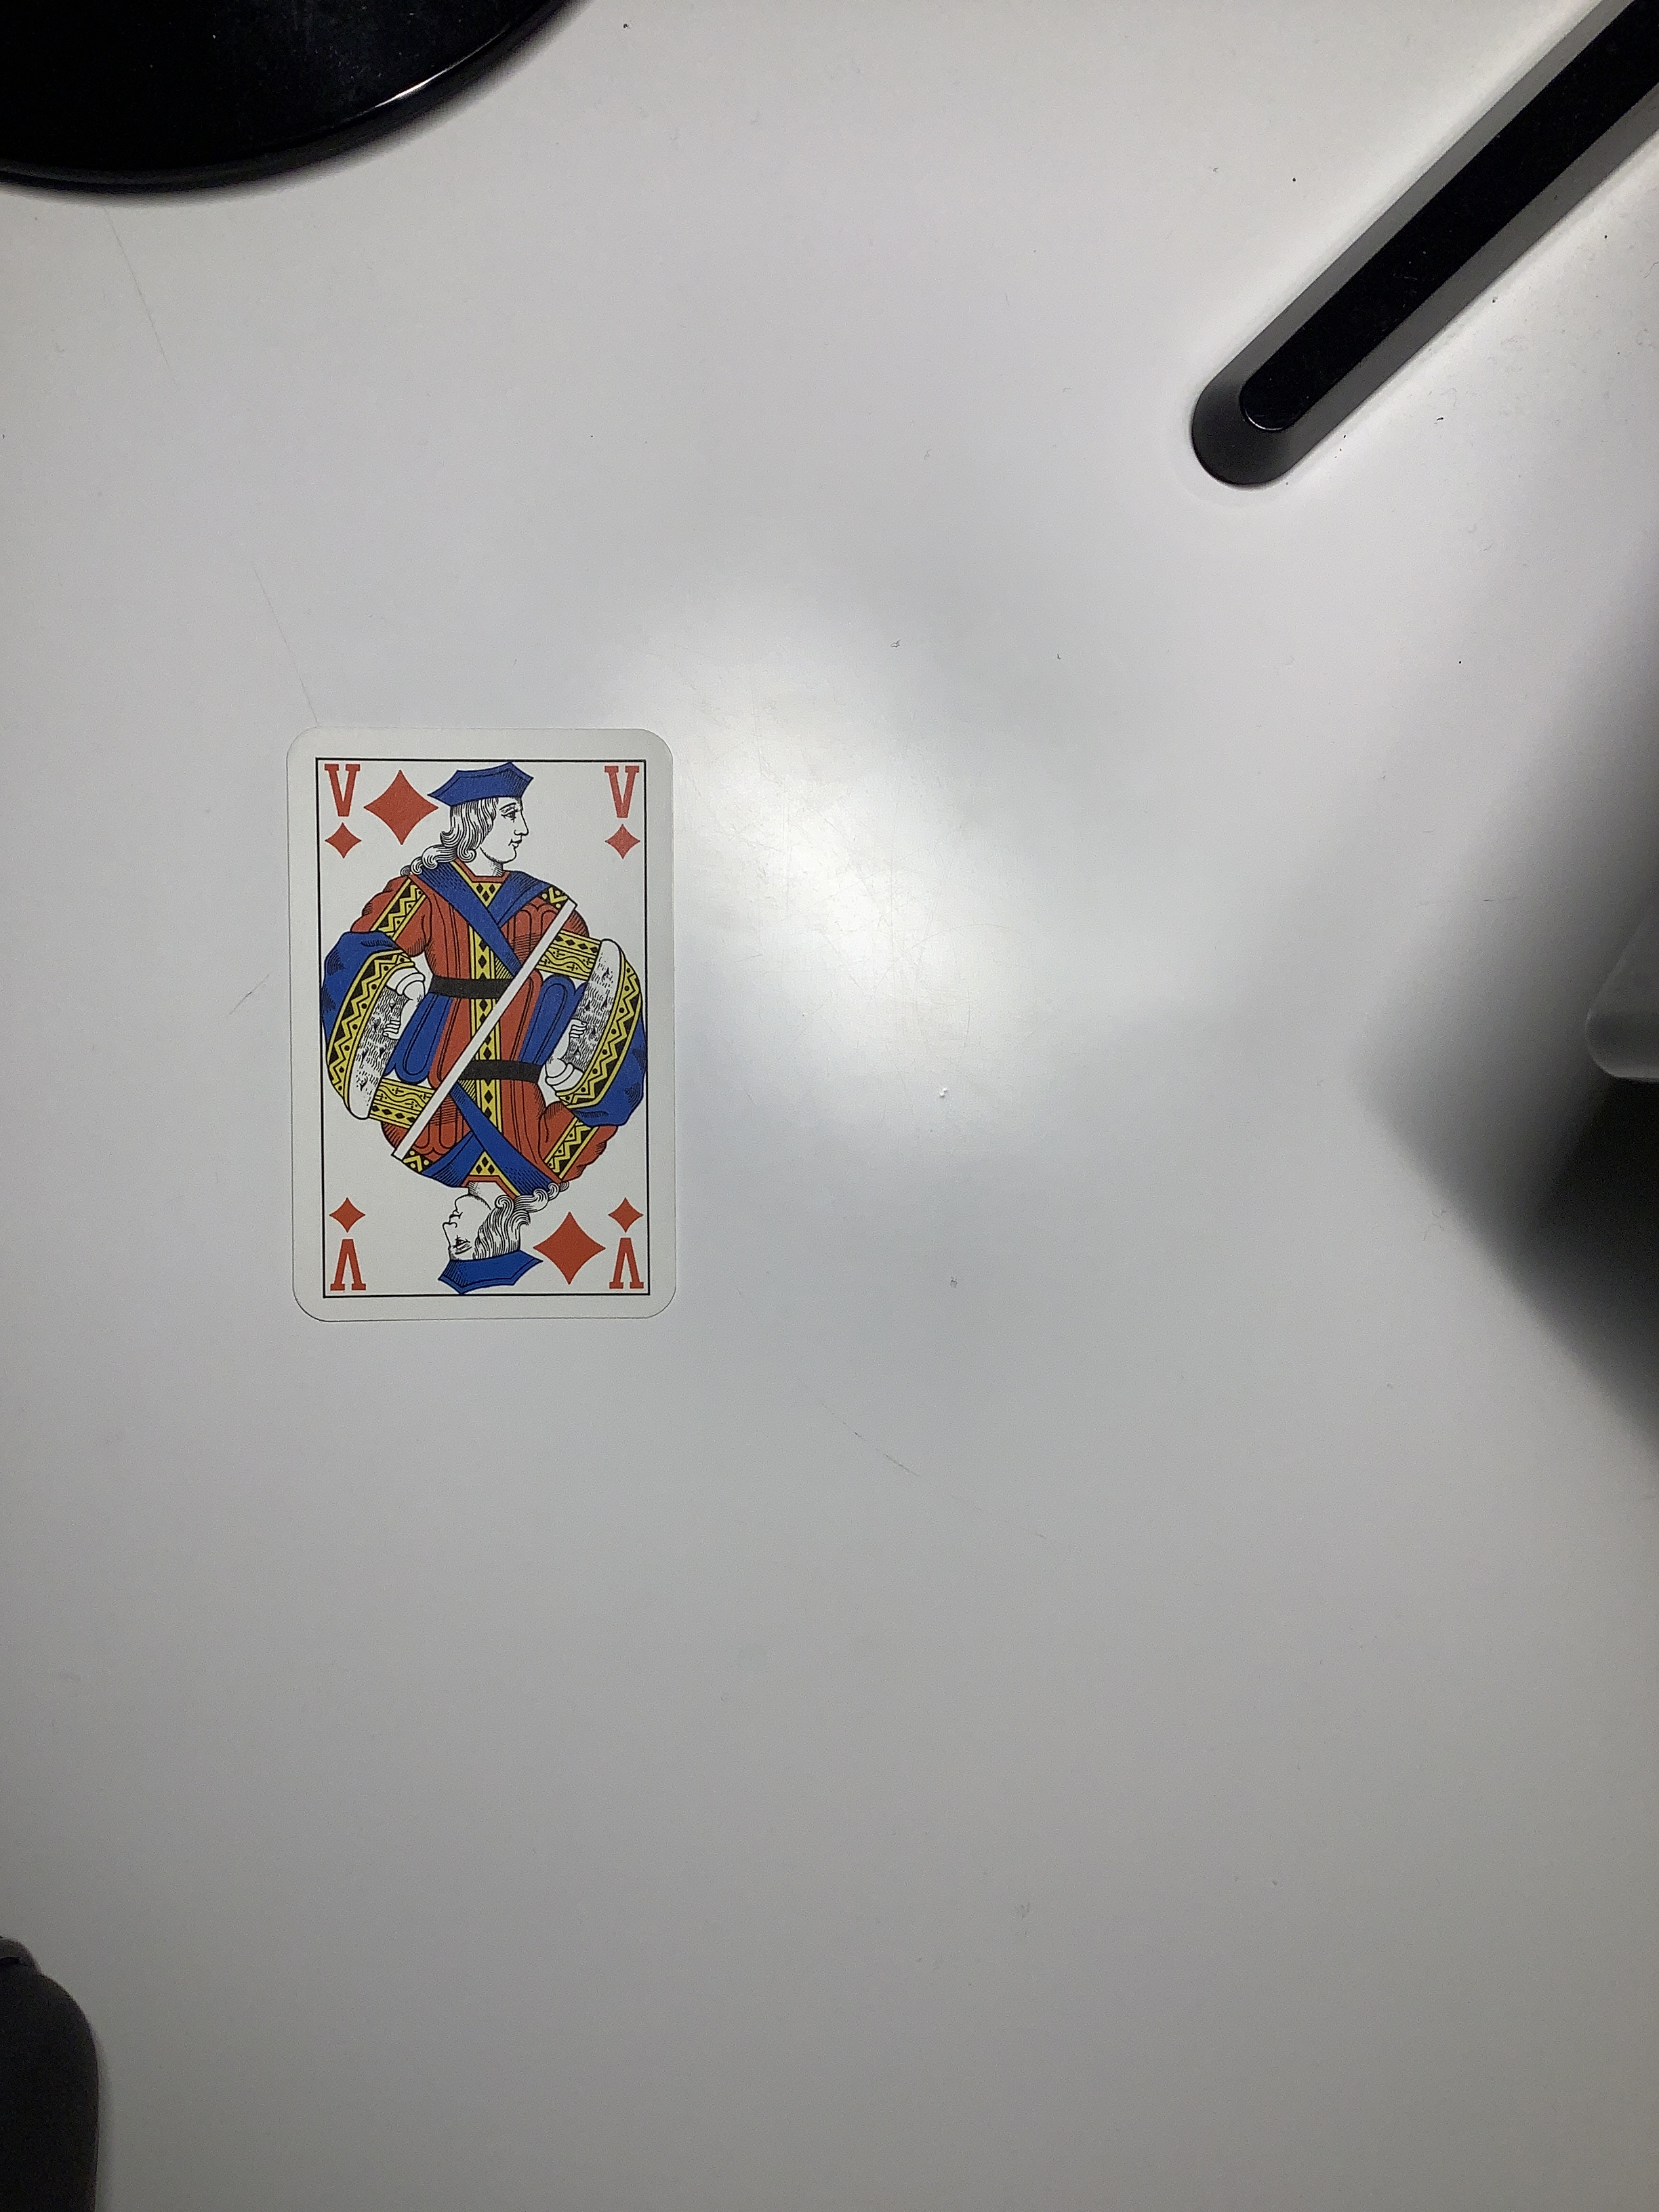♦ J: (263, 712, 711, 1339)
